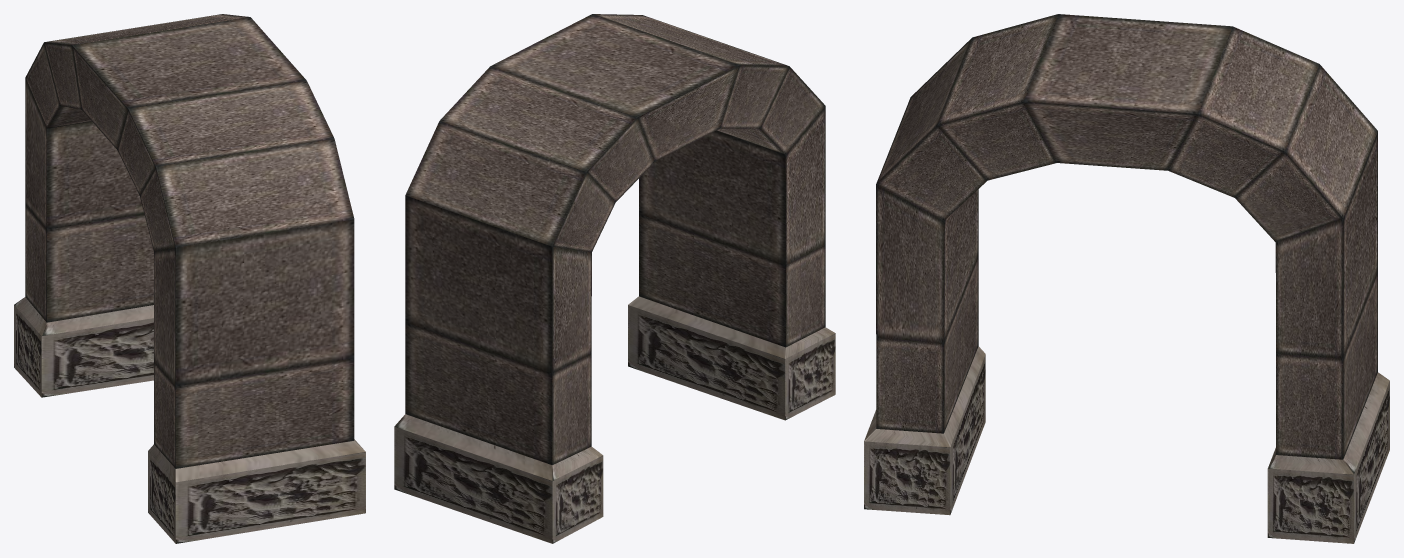
Rendered from doorx27.obj.
The picture shows the model from 3 angles, left to right: view 1: azimuth 30°, elevation 25°; view 2: azimuth 150°, elevation 25°; view 3: azimuth 270°, elevation 25°; orthographic projection. The views are drawn at different scales.
Parts seen in each view (by area): view 1: doorx27; view 2: doorx27; view 3: doorx27.
Part boxes in pixels (left/top/right/bottom): doorx27: left=14, top=14, right=365, bottom=543; doorx27: left=394, top=14, right=835, bottom=543; doorx27: left=864, top=14, right=1389, bottom=543.
Bounding box in the file's own units: 85.75 × 131 × 150.
